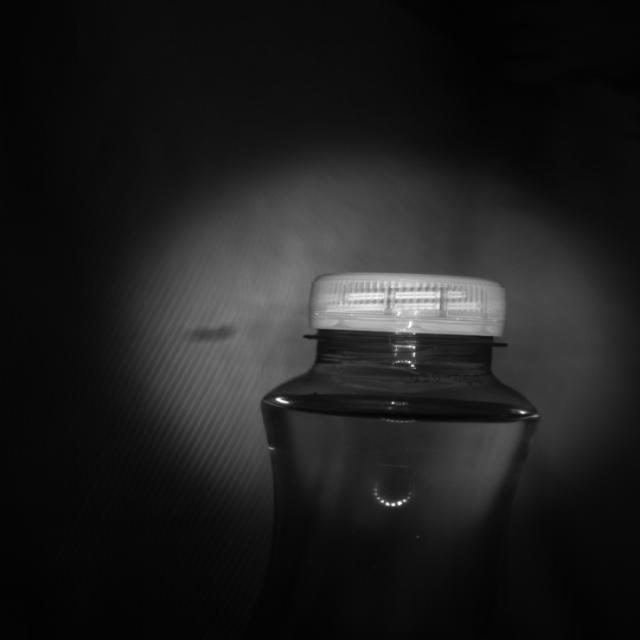Good: (308, 270, 511, 343)
